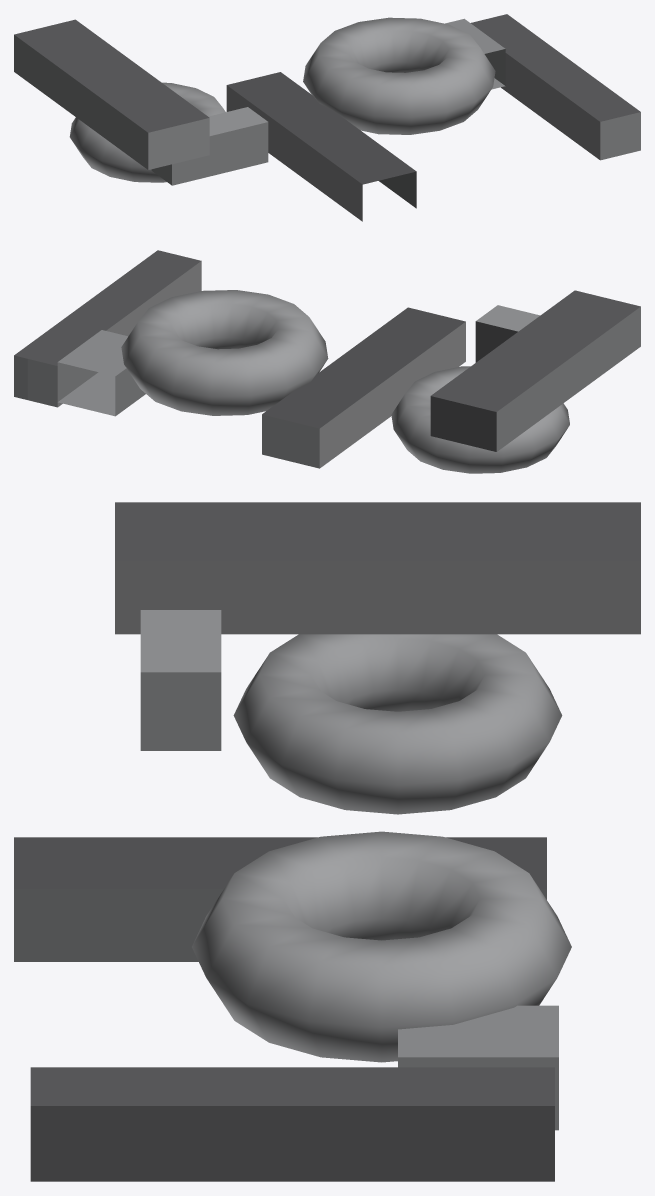
3 renders of one model, top to bottom at view 1: azimuth 30°, elevation 25°; view 2: azimuth 150°, elevation 25°; view 3: azimuth 270°, elevation 25°, orthographic. The views are drawn at different scales.
Bounding box in the file's own units: 0.562 × 0.1332 × 0.3308.
